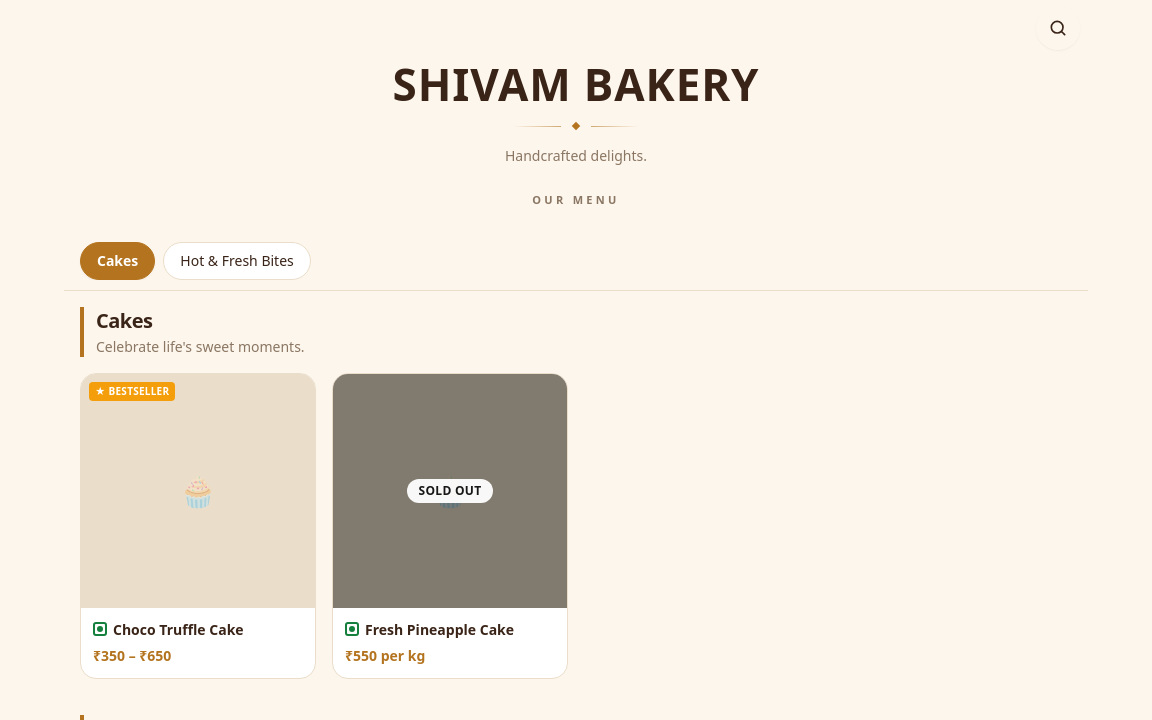
Scenario: the item sheet › closes on Escape
The image size is (1152, 720).
Click the heading "Choco Truffle Cake" at point(178, 630), box [113,620,244,640]
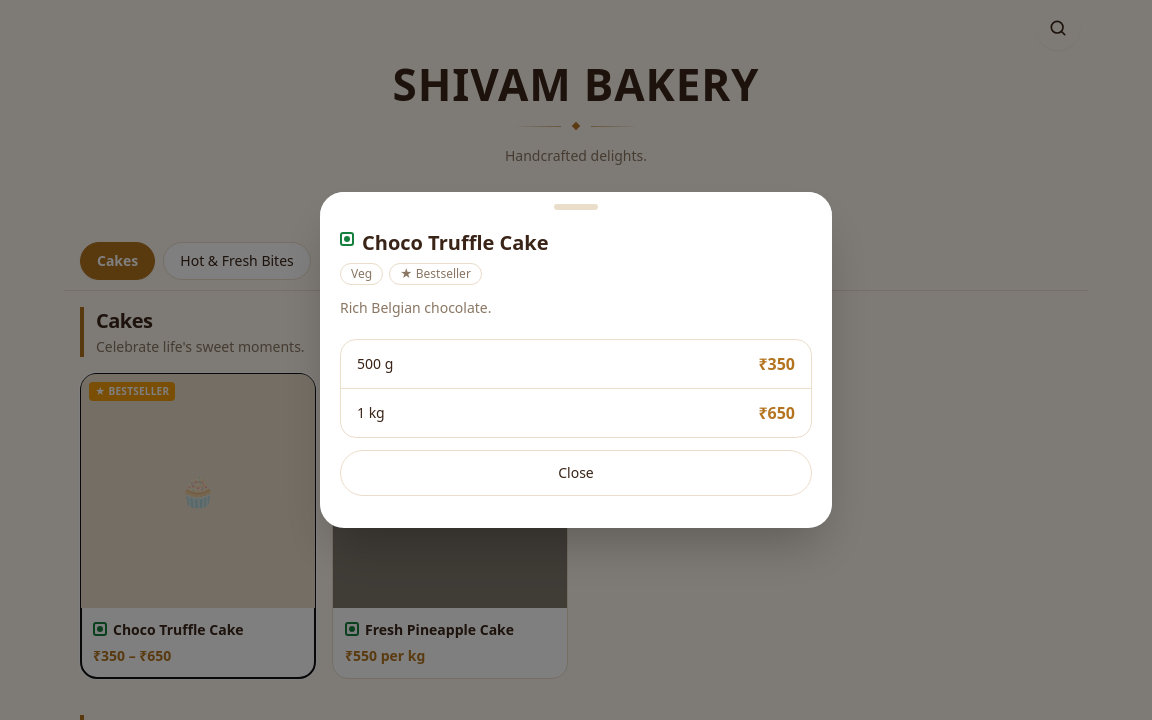
Expected: the dialog is shown
Press Escape
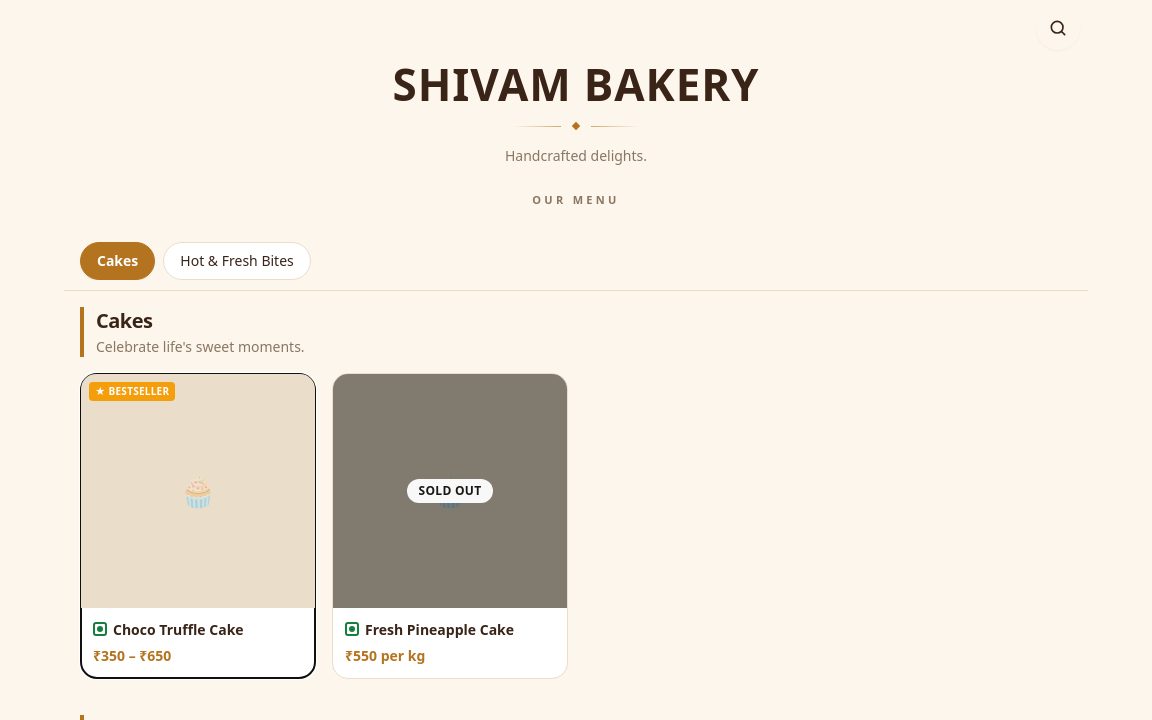
Expected: the dialog is gone
